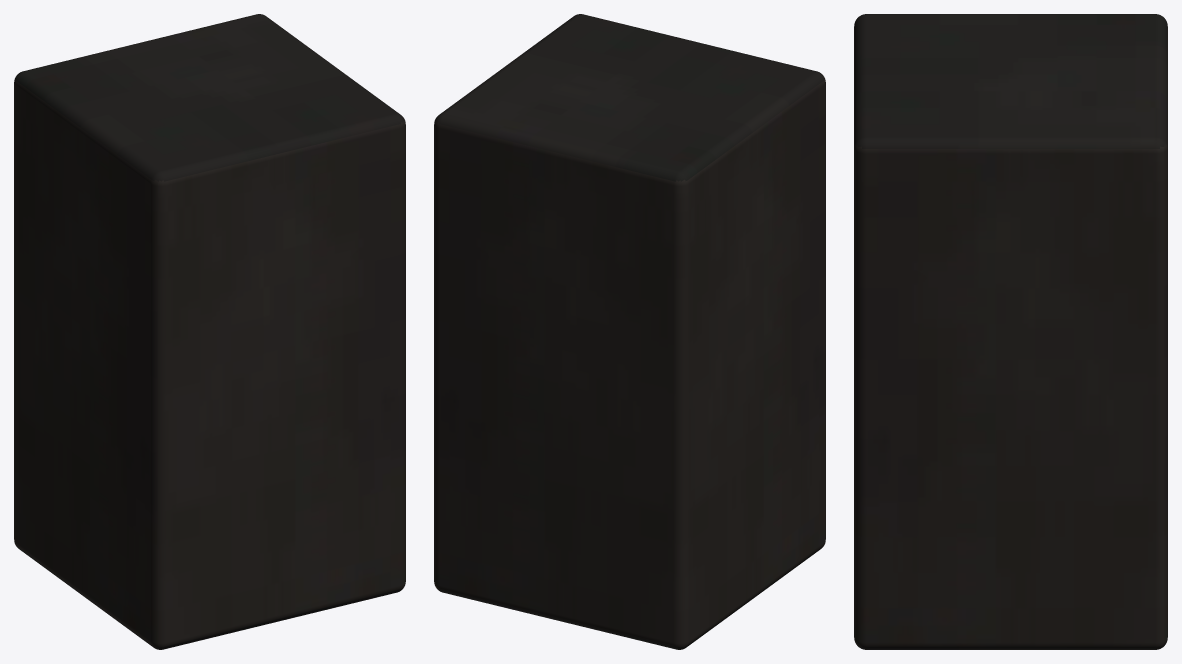
The model's file is Rez_Vez_cerny.glb.
3 views of the same model, side by side, from view 1: azimuth 30°, elevation 25°; view 2: azimuth 150°, elevation 25°; view 3: azimuth 270°, elevation 25° (orthographic). The views are drawn at different scales.
Visible parts, largest first — view 1: Rez_Vez_cerny; view 2: Rez_Vez_cerny; view 3: Rez_Vez_cerny.
Part boxes in pixels (x1,y1,x2,y2): Rez_Vez_cerny: [14, 14, 405, 649]; Rez_Vez_cerny: [434, 14, 825, 649]; Rez_Vez_cerny: [854, 14, 1167, 649].
Bounding box in the file's own units: 0.02 × 0.036 × 0.02.
Materials: 2 (2 with a texture image).
